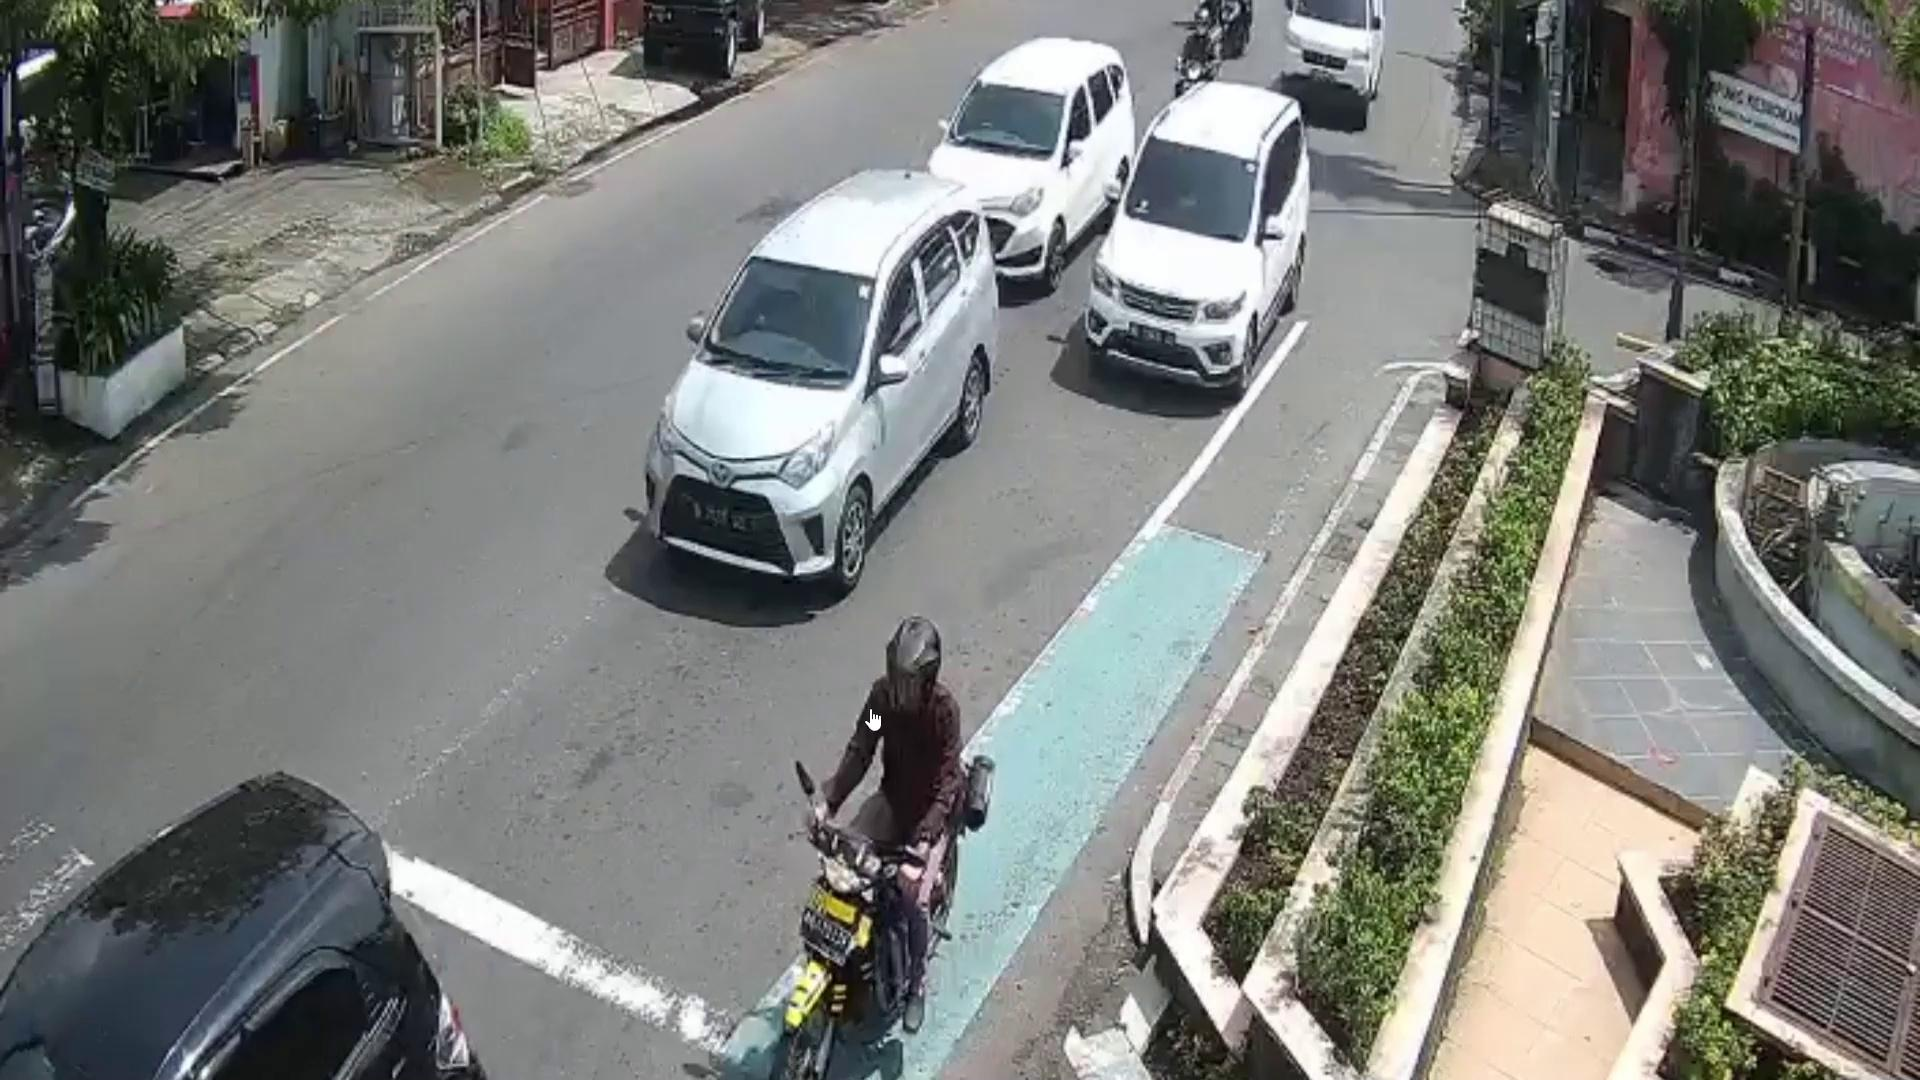car: (640, 169, 1001, 593), (0, 773, 481, 1080), (1084, 78, 1308, 398), (922, 32, 1137, 291), (1279, 0, 1387, 128)
motorbike: (775, 760, 967, 1080)
